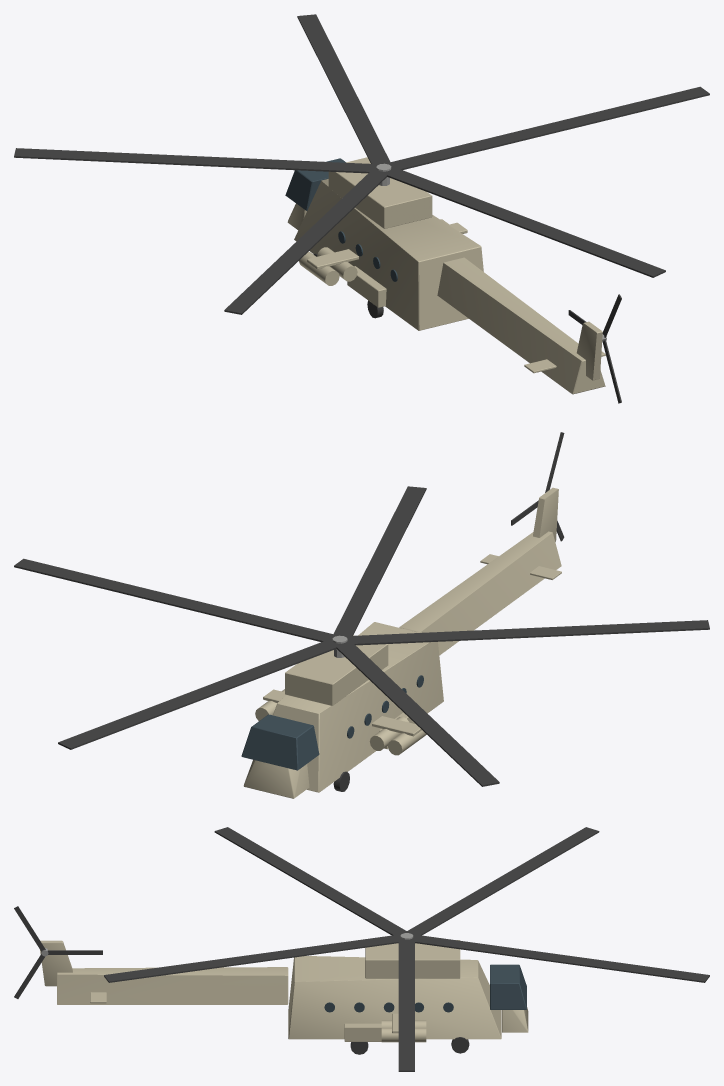
The model's file is rus_heli_mi8amtsh.glb.
The picture shows the model from 3 angles, top to bottom: view 1: azimuth 30°, elevation 25°; view 2: azimuth 150°, elevation 25°; view 3: azimuth 270°, elevation 25°; orthographic projection. The views are drawn at different scales.
Parts seen in each view (by area): view 1: body, rotor, trotor; view 2: body, rotor; view 3: body, rotor, trotor.
Part boxes in pixels (x1,y1,x2,y2): body: (285,157,605,394); rotor: (14,14,709,314); trotor: (568,294,621,403); body: (241,487,561,798); rotor: (14,486,709,786); body: (40,940,528,1054); rotor: (104,827,709,1071); trotor: (14,906,102,998).
Size of the model in its own units: 19.43 by 5.03 by 23.46.
